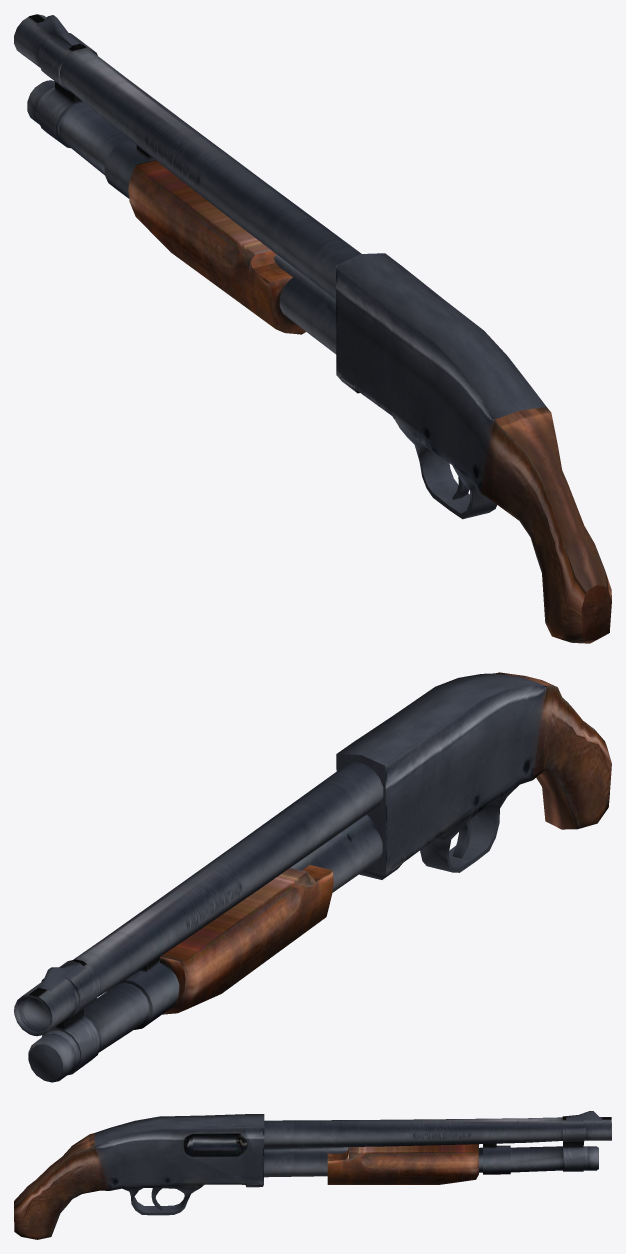
Rendered from ShotGunShortened.fbx.
The picture shows the model from 3 angles, top to bottom: view 1: azimuth 30°, elevation 25°; view 2: azimuth 150°, elevation 25°; view 3: azimuth 270°, elevation 25°; orthographic projection. The views are drawn at different scales.
Parts seen in each view (by area): view 1: Cube.001, Cube.003; view 2: Cube.001, Cube.003; view 3: Cube.001, Cube.003.
Boxes of the visible parts, <box> form: Cube.001: <box>14,14,611,643</box>; Cube.003: <box>128,160,305,334</box>; Cube.001: <box>14,672,611,1082</box>; Cube.003: <box>160,865,333,1014</box>; Cube.001: <box>14,1111,611,1239</box>; Cube.003: <box>327,1144,478,1184</box>.
Bounding box in the file's own units: 15.42 × 52.3 × 226.
